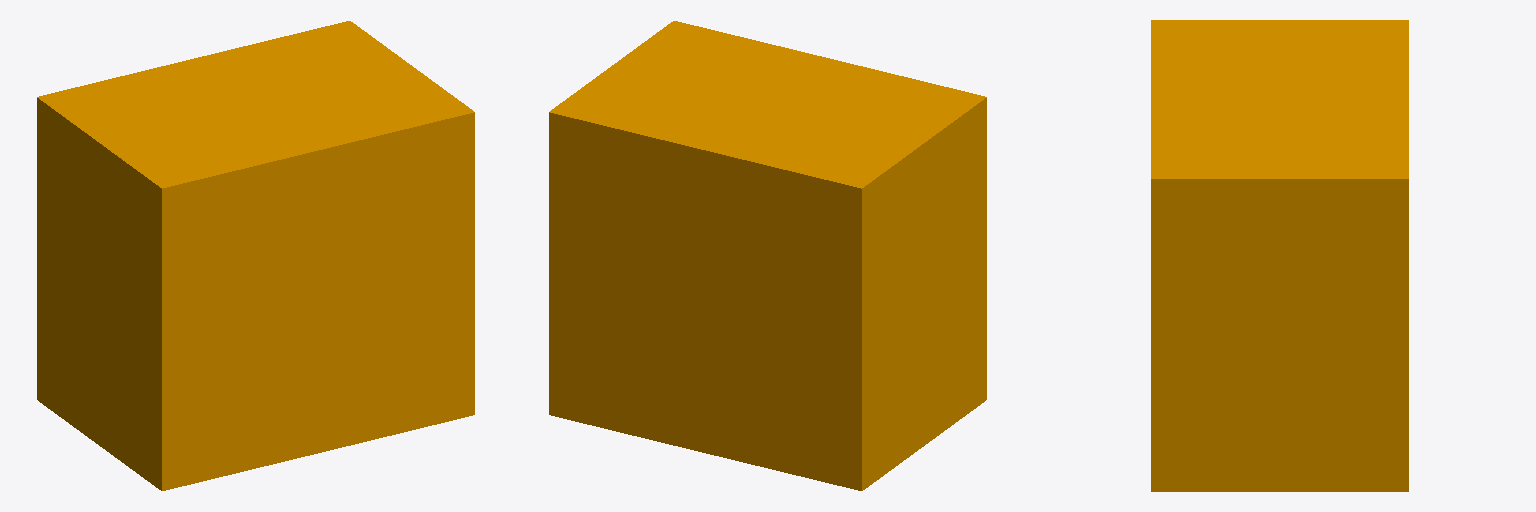
robot.urdf — kimwipe:
<?xml version="1.0"?>
<robot name="kimwipe">
    <link name="kimwipe_base_link">
        <contact>
            <lateral_friction value="1.0"/>
            <spinning_friction value="0.01"/>
            <rolling_friction value="0.01"/>
            <contact_cfm value="0.0"/>
            <contact_erp value="1.0"/>
        </contact>
        <inertial>
            <origin rpy="0 0 0" xyz="0 0 0"/>
            <mass value="0.147"/>
            <inertia ixx="1" ixy="0" ixz="0" iyy="1" iyz="0" izz="1"/>
        </inertial>
        <visual>
            <origin rpy="0 1.5708 0" xyz="0 0 0"/>
            <geometry>
                <mesh filename="cuboid/visual/kimwipe.obj" scale="1.0 1.0 1.0"/>
            </geometry>
        </visual>
        <collision>
            <origin rpy="0 1.5708 0" xyz="0 0 0"/>
            <geometry>
                <mesh filename="cuboid/collision/kimwipe.stl" scale="1.0 1.0 1.0"/>
            </geometry>
        </collision>
    </link>
</robot>

--- What the picture shows (computed from the rendered views, not written in the file) ---
Views: 3 orthographic renders of the robot side by side, from view 1: azimuth 30°, elevation 25°; view 2: azimuth 150°, elevation 25°; view 3: azimuth 270°, elevation 25°.
Model kimwipe with 1 links and 0 joints (none), rooted at kimwipe_base_link, posed all joints at 0.
Links seen in each view (by area): view 1: kimwipe_base_link; view 2: kimwipe_base_link; view 3: kimwipe_base_link.
Link boxes in pixels (left/top/right/bottom): kimwipe_base_link: left=37, top=21, right=474, bottom=490; kimwipe_base_link: left=549, top=21, right=986, bottom=490; kimwipe_base_link: left=1151, top=20, right=1408, bottom=491.
Bounding box of the posed robot: 0.13 × 0.09 × 0.12 m (x, y, z).
Meshes: 1 distinct files referenced, 1 mesh visuals loaded (1 OBJ).